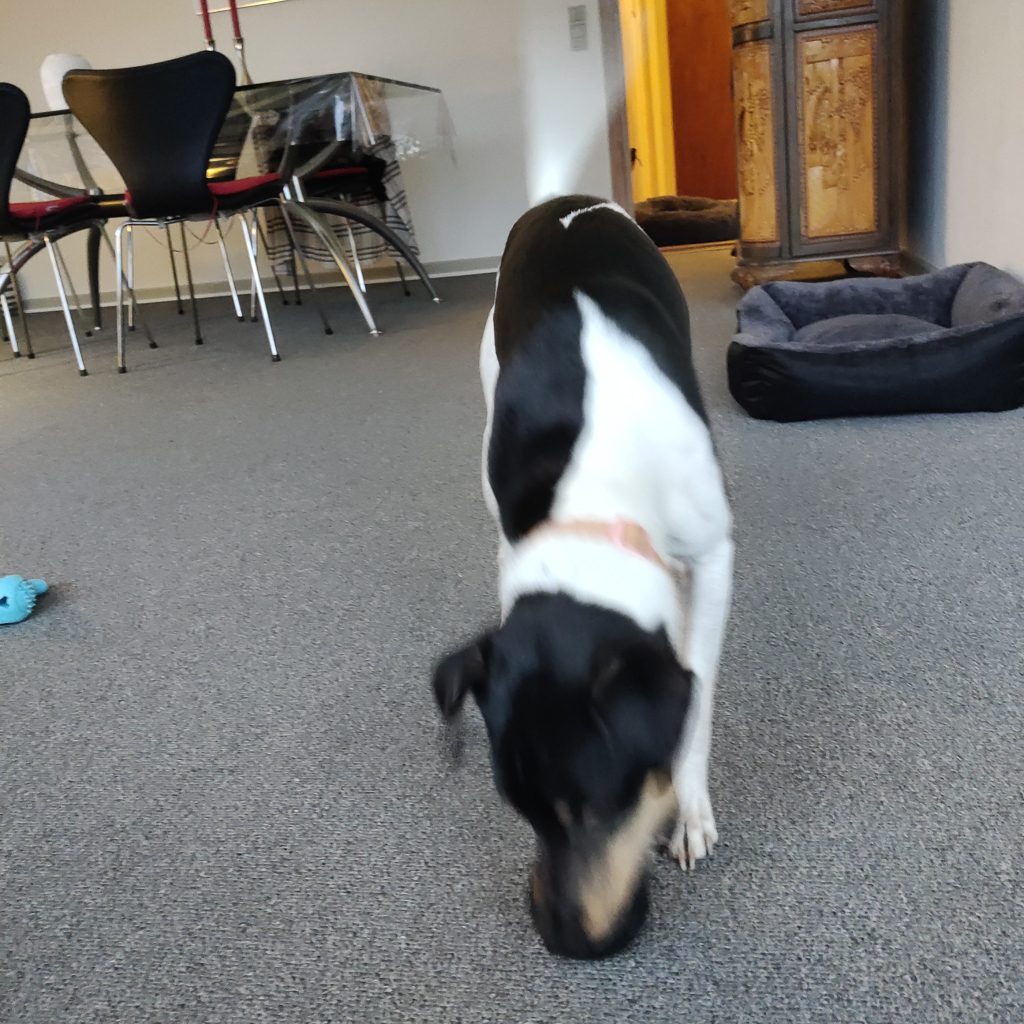Dog: (383, 0, 858, 961)
